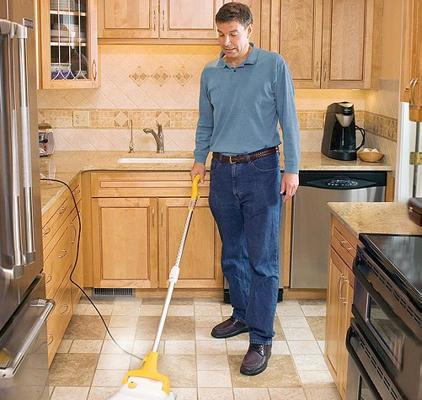person: (189, 3, 302, 378)
